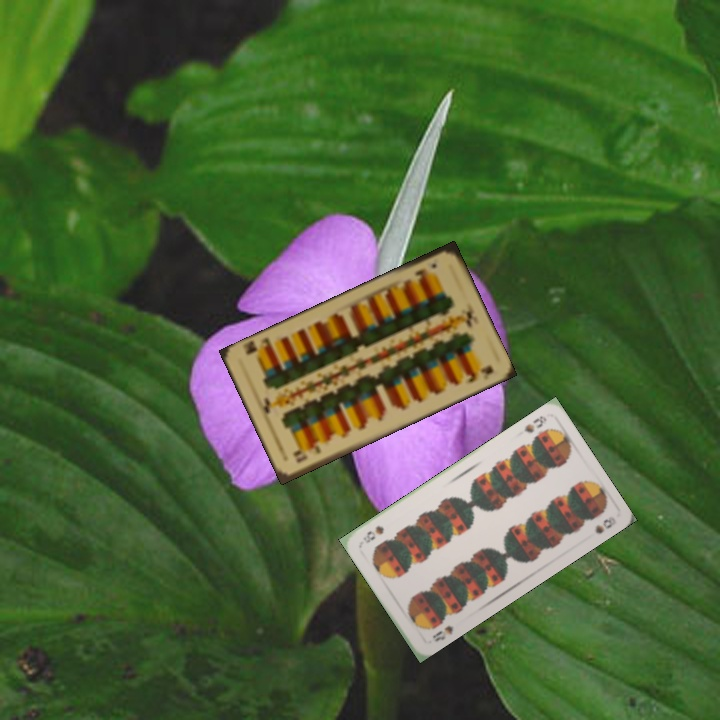E10: (290, 442, 323, 465), (410, 259, 439, 283)
S8: (520, 412, 549, 436), (428, 621, 456, 644)
